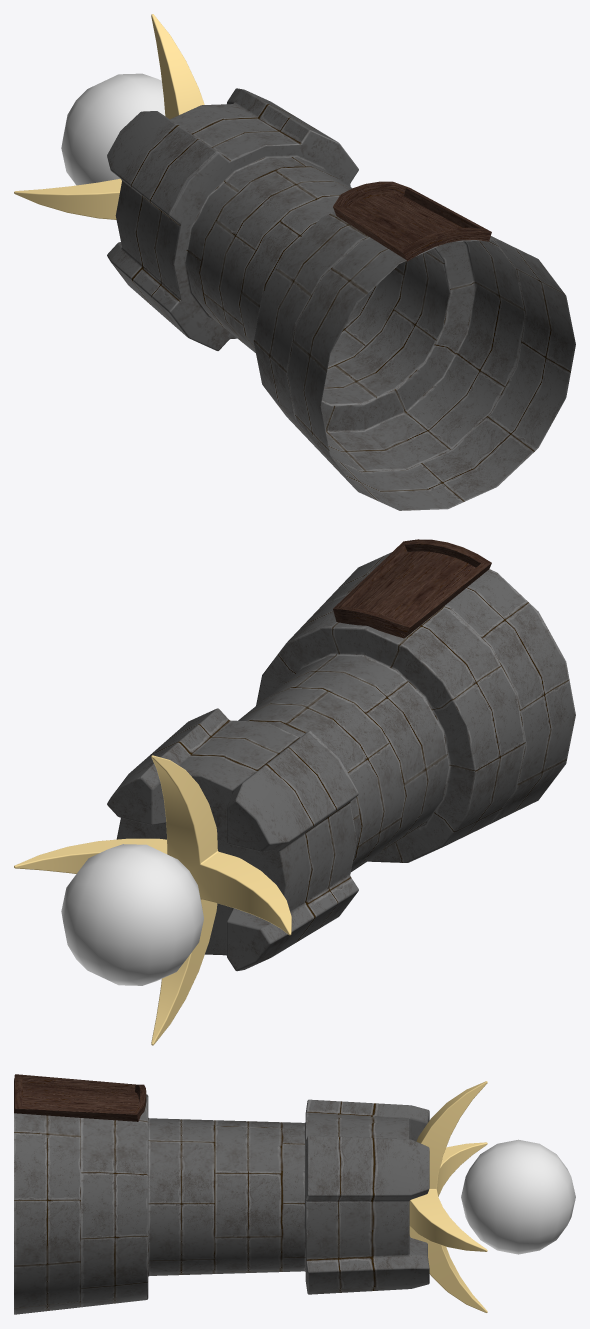
File: tower 2.fbx
3 renders of one model, top to bottom at view 1: azimuth 30°, elevation 25°; view 2: azimuth 150°, elevation 25°; view 3: azimuth 270°, elevation 25°, orthographic. The views are drawn at different scales.
Visible parts, largest first — view 1: Cylinder, Cube.003, Cube.002, Cube.004; view 2: Cylinder, Cube.002, Cube.004, Cube.003; view 3: Cylinder, Cube.002, Cube.004, Cube.003.
Part boxes in pixels (x1,y1,x2,y2): Cylinder: [107, 88, 575, 510]; Cube.003: [333, 181, 491, 261]; Cube.002: [61, 73, 165, 185]; Cube.004: [14, 14, 204, 219]; Cylinder: [107, 552, 575, 971]; Cube.002: [61, 844, 203, 985]; Cube.004: [14, 755, 291, 1045]; Cube.003: [333, 539, 491, 638]; Cylinder: [14, 1079, 429, 1314]; Cube.002: [461, 1139, 575, 1254]; Cube.004: [409, 1081, 487, 1312]; Cube.003: [14, 1074, 146, 1121].
Size of the model in its own units: 381 by 381 by 837.
